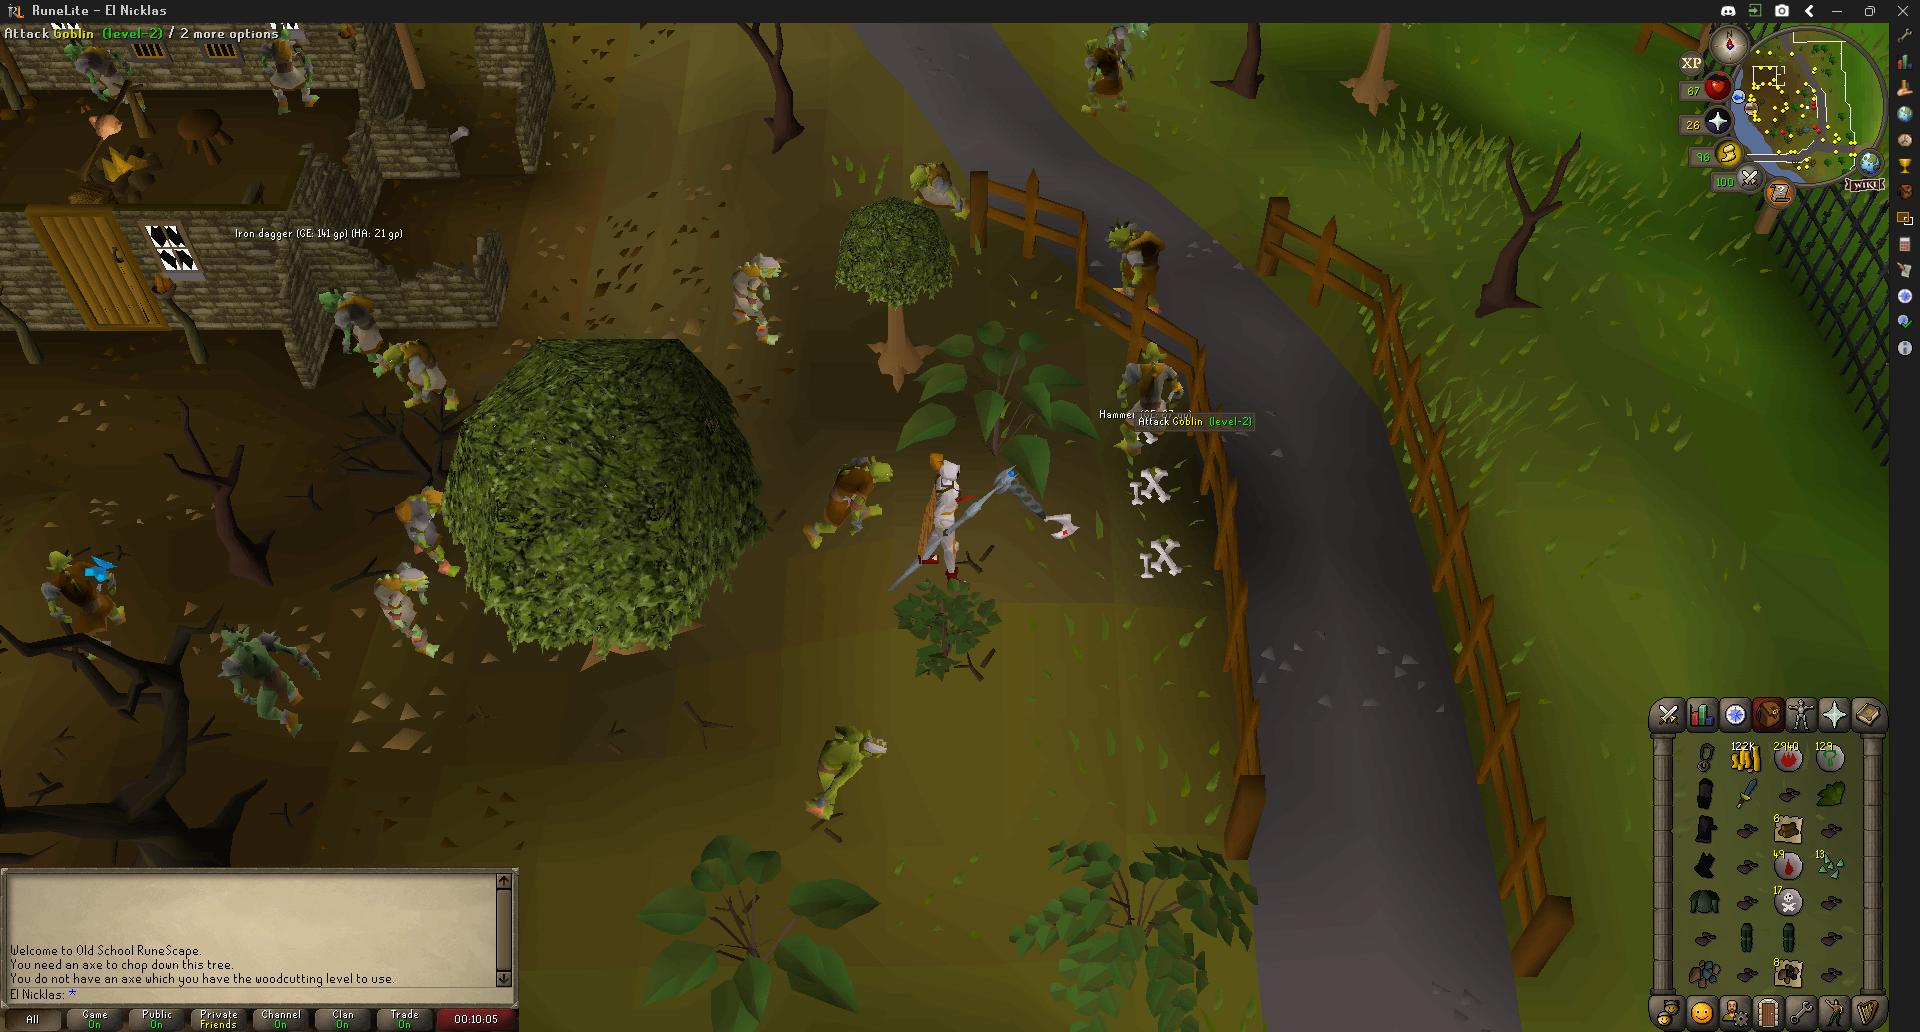Player: (911, 450, 977, 585)
goblin: (215, 622, 323, 733), (800, 452, 895, 555), (810, 725, 890, 829), (1113, 342, 1184, 458), (42, 547, 127, 641), (394, 487, 458, 571), (723, 252, 782, 342), (1110, 225, 1168, 316), (372, 583, 442, 656), (262, 31, 320, 117), (381, 337, 453, 404), (319, 288, 383, 358), (62, 37, 130, 101), (1084, 34, 1135, 116), (909, 160, 968, 220), (1105, 22, 1147, 65)
